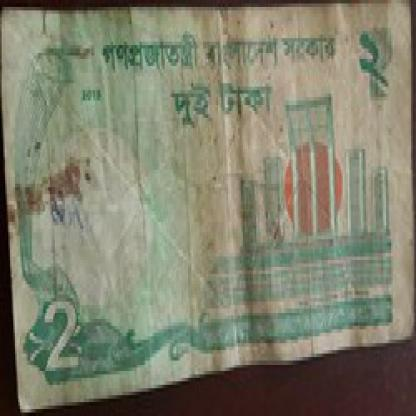two taka: (39, 291, 102, 378), (360, 24, 400, 80)
